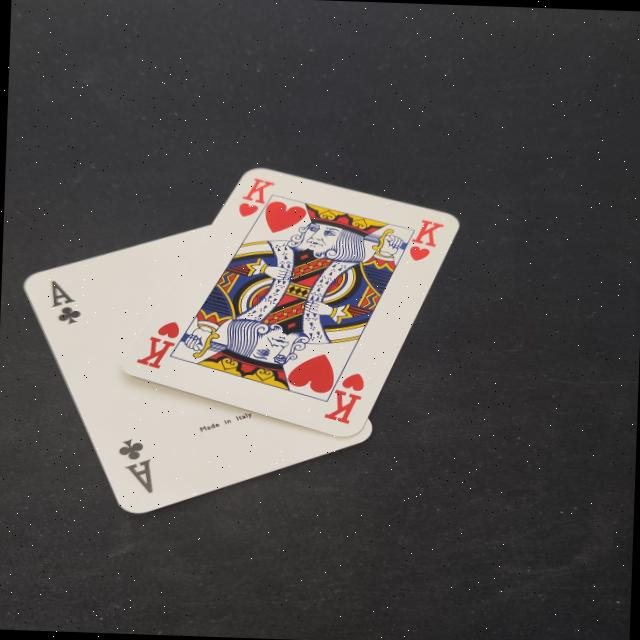Ac: (113, 434, 164, 498), (43, 276, 84, 328)
Kh: (132, 316, 186, 375), (320, 367, 369, 428), (401, 218, 449, 266), (230, 175, 276, 223)
